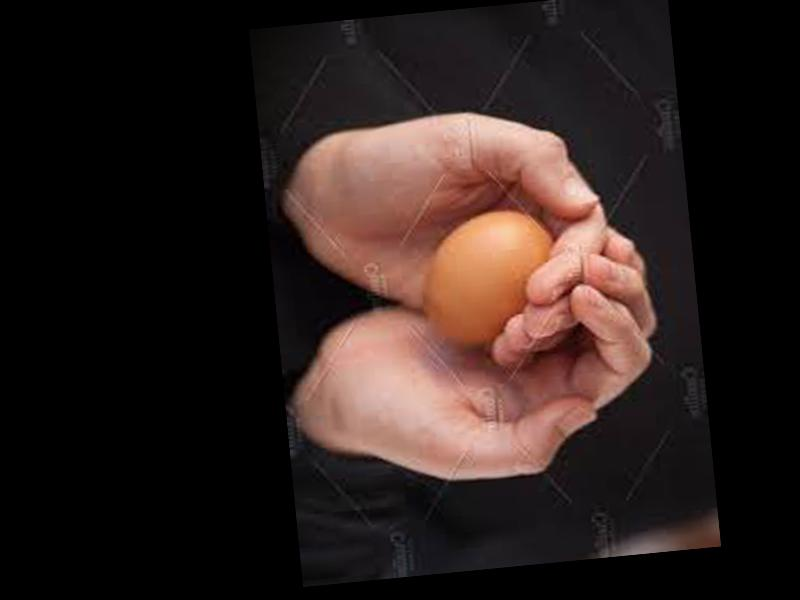Eggs: (415, 205, 558, 356)
